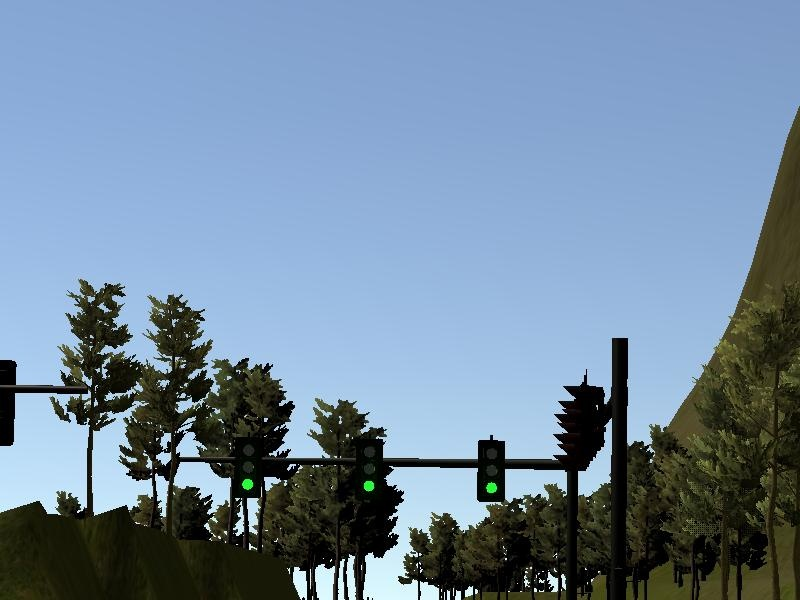GREEN: (476, 439, 506, 502), (356, 438, 384, 501), (232, 437, 261, 496)
